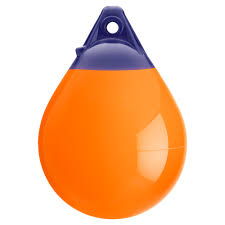buoy: (37, 68, 187, 217)
